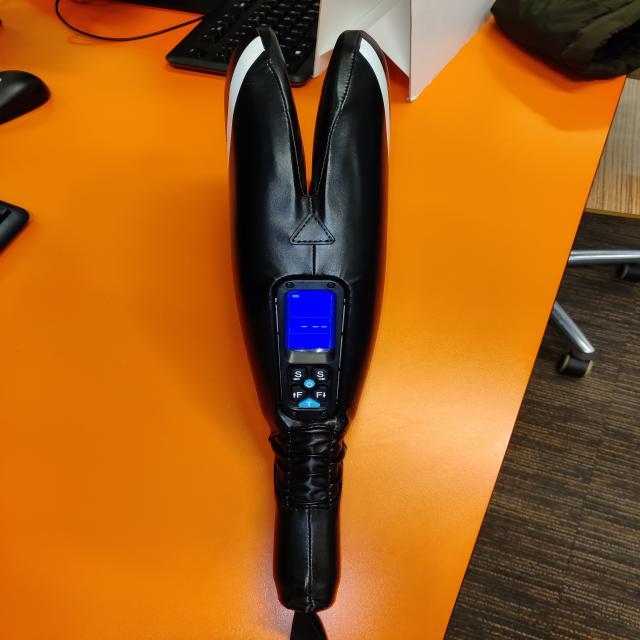paddle: (218, 22, 396, 613)
